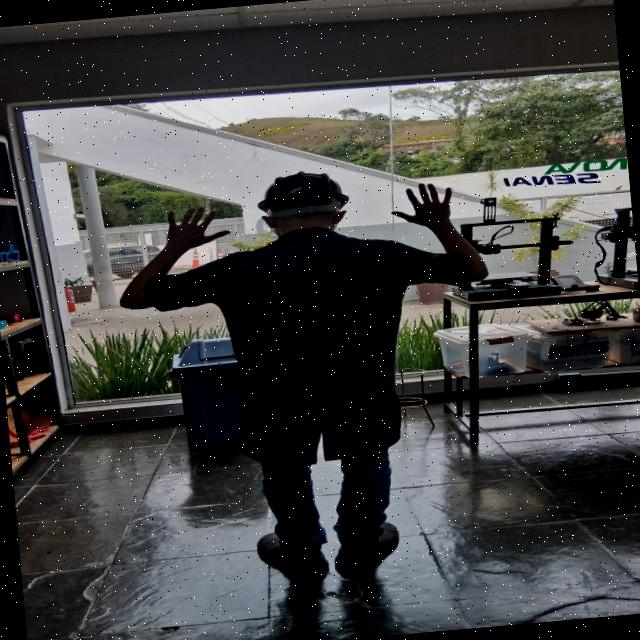BOTA: (328, 517, 407, 574), (245, 528, 331, 575)
CAPACETE: (253, 172, 354, 216)
JALECO: (153, 226, 479, 464)
SEM LUVA: (161, 203, 238, 251), (390, 181, 457, 231)
